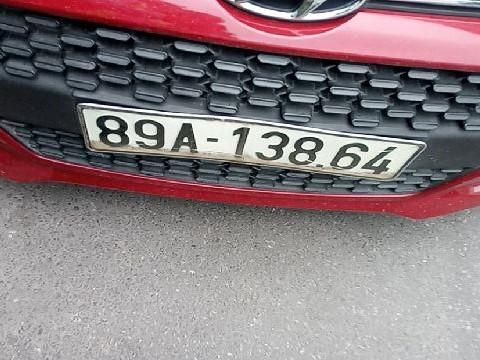lisence: (76, 102, 427, 184)
